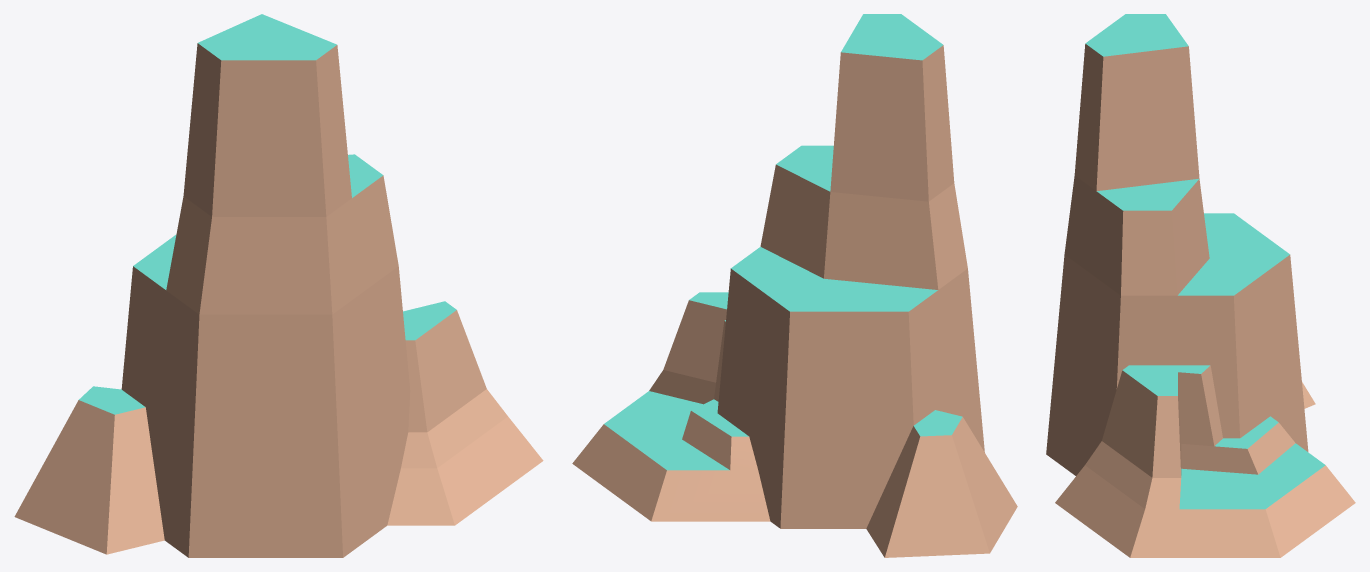
Rendered from rock_tallA.glb.
3 views of the same model, side by side, from view 1: azimuth 30°, elevation 25°; view 2: azimuth 150°, elevation 25°; view 3: azimuth 270°, elevation 25° (orthographic). The views are drawn at different scales.
Visible parts, largest first — view 1: rock_tallA; view 2: rock_tallA; view 3: rock_tallA.
Part boxes in pixels (bbox=[...]): rock_tallA: bbox=[14, 14, 543, 557]; rock_tallA: bbox=[572, 14, 1017, 557]; rock_tallA: bbox=[1046, 14, 1355, 557].
Bounding box in the file's own units: 0.9831 × 0.9959 × 0.6832.
1 material, 1 textured.
